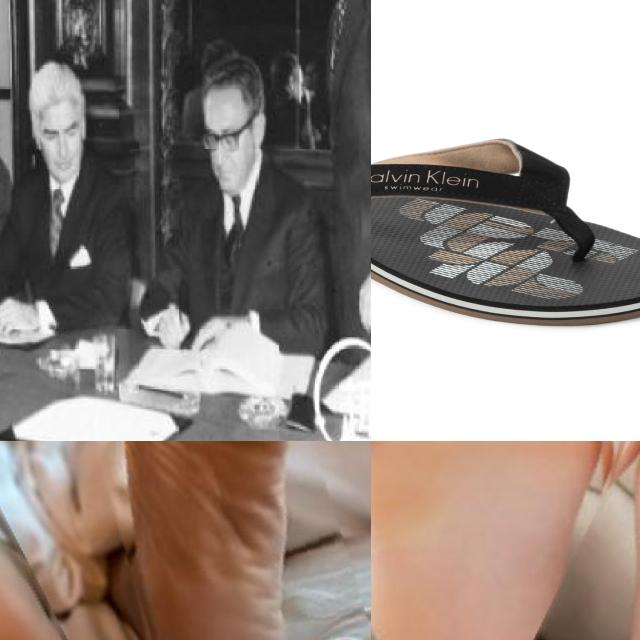Barefoots: (371, 441, 640, 640), (120, 441, 304, 640), (483, 441, 640, 640)
Sandals: (371, 130, 640, 328)
face_nomask: (29, 114, 93, 196), (204, 107, 253, 194)
glasses: (201, 129, 246, 158)
hand_noglove: (190, 314, 243, 353), (0, 295, 34, 334), (160, 305, 190, 348), (356, 271, 371, 334)
head_nohelmet: (23, 42, 90, 111), (182, 60, 268, 108)
person: (155, 54, 333, 370), (0, 48, 147, 348), (275, 0, 371, 355)
